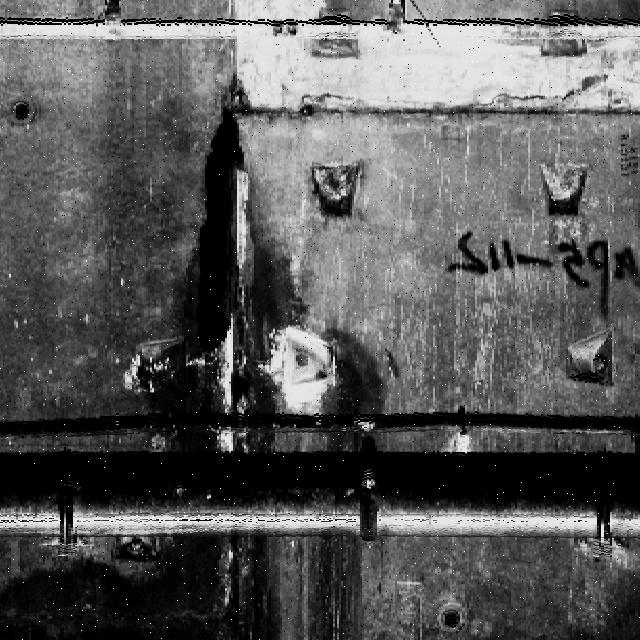leakage: (123, 102, 388, 452), (1, 521, 284, 639), (300, 530, 365, 639)
